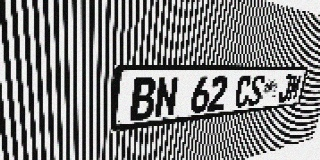2: (207, 76, 229, 112)
6: (190, 76, 212, 114)
B: (130, 77, 157, 121)
C: (233, 75, 253, 108)
J: (277, 74, 294, 103)
M: (287, 74, 303, 101)
N: (154, 77, 179, 118)
S: (247, 75, 266, 106)
